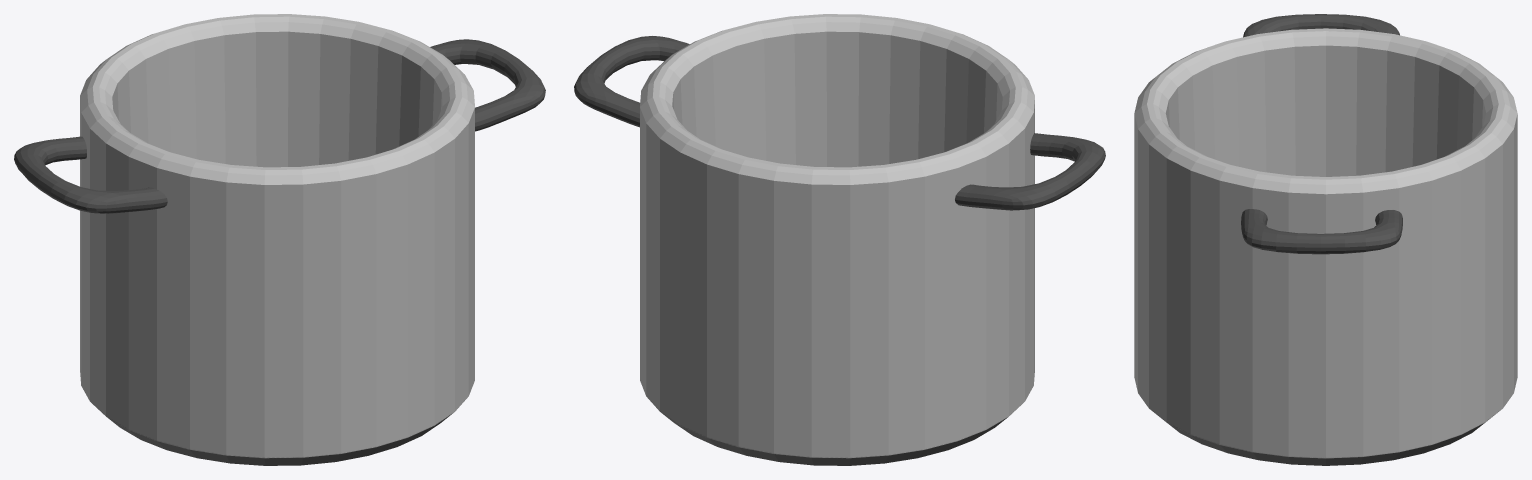
The model's file is pot.fbx.
3 renders of one model, left to right at view 1: azimuth 30°, elevation 25°; view 2: azimuth 150°, elevation 25°; view 3: azimuth 270°, elevation 25°, orthographic. The views are drawn at different scales.
Parts seen in each view (by area): view 1: Cube.002; view 2: Cube.002; view 3: Cube.002.
Boxes of the visible parts, x1,y1,x2,y2 form: Cube.002: (14, 14, 545, 465); Cube.002: (574, 14, 1105, 465); Cube.002: (1134, 14, 1517, 465).
Bounding box in the file's own units: 1282 × 751 × 907.
